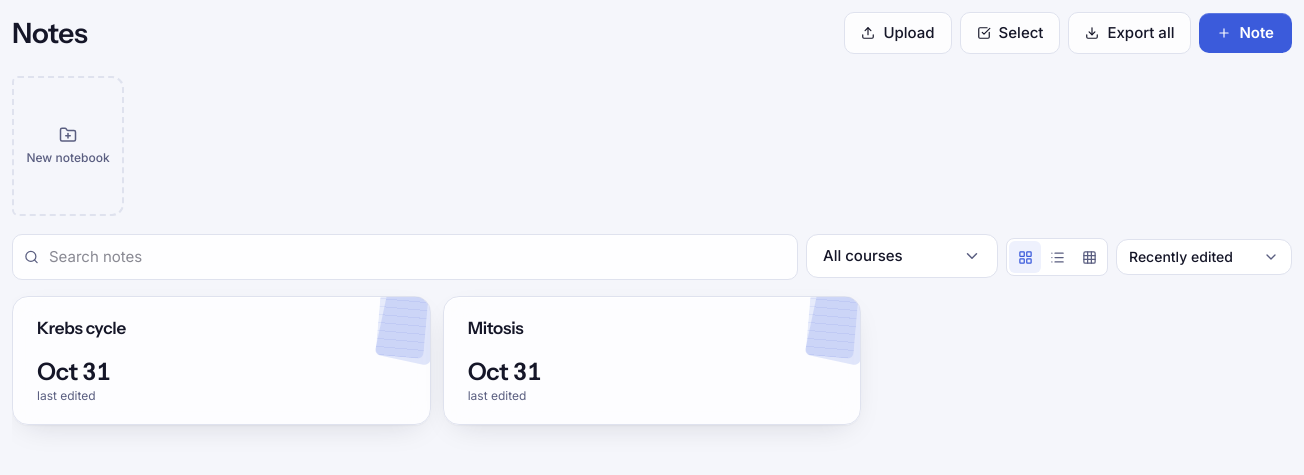
notes list quick actions › Select starts selecting with that note ticked
Expected: the text "Krebs cycle" is shown, [37, 318, 126, 338]
Right-click the link "Mitosis Oct 31 last edited" at (496, 328), box [443, 296, 861, 425]
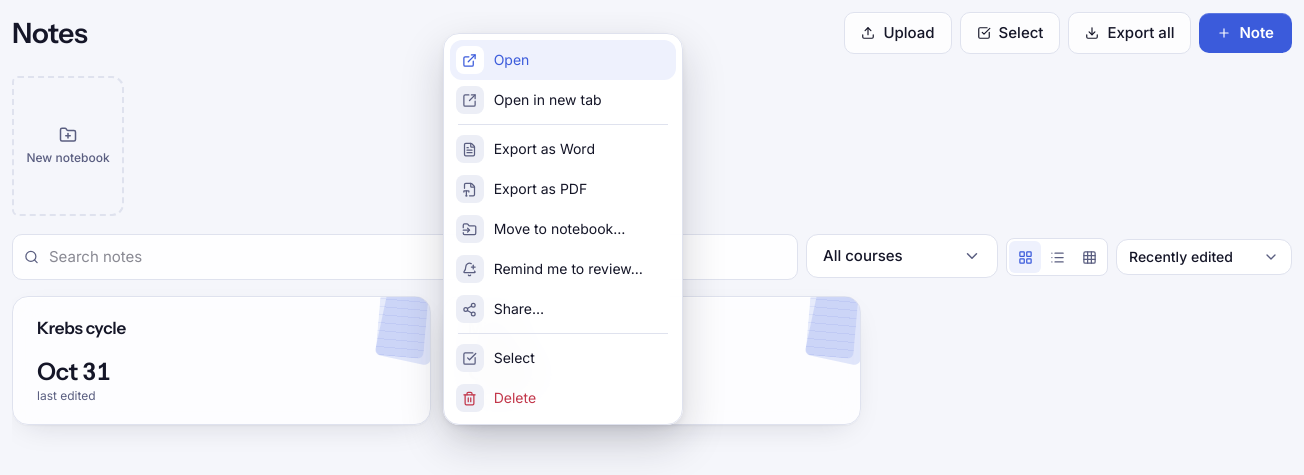
Click the menu item "Select". click: (563, 358)
box: [450, 338, 676, 378]
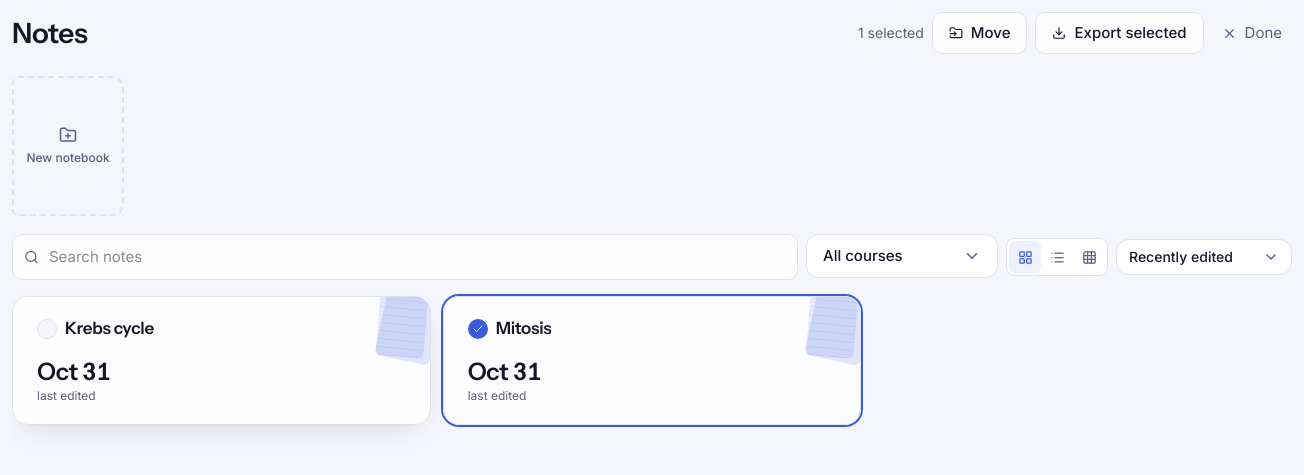
Result: the text "1 selected" is shown at [858, 23, 924, 43]
